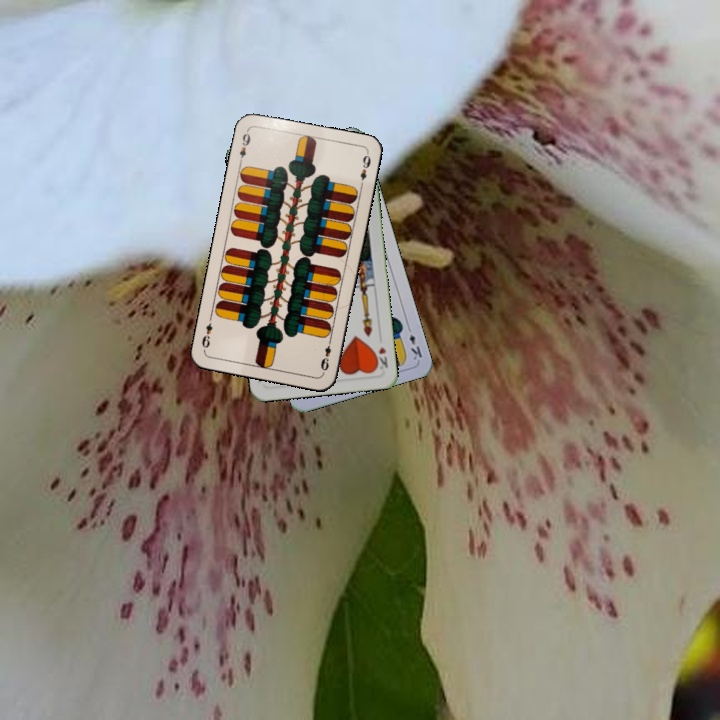E9: (235, 126, 253, 167), (316, 335, 334, 375)
EK: (403, 322, 425, 363)
HK: (371, 342, 390, 373)
